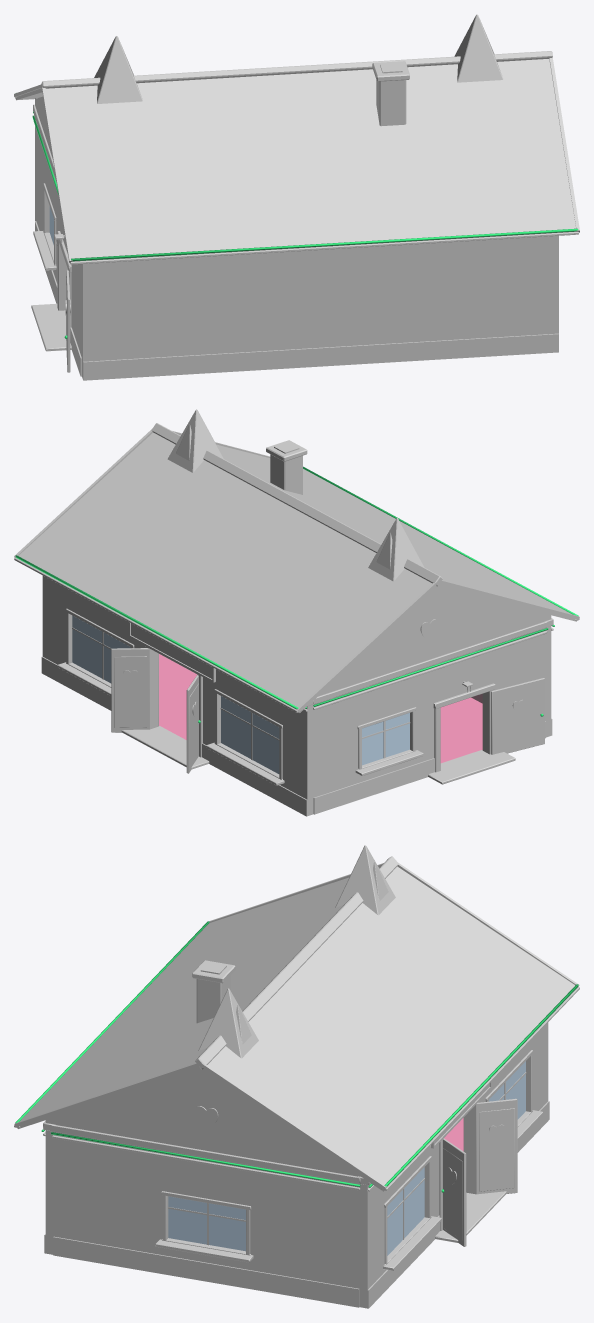
File: zon_bakery_raw.glb
The picture shows the model from 3 angles, top to bottom: view 1: azimuth 30°, elevation 25°; view 2: azimuth 150°, elevation 25°; view 3: azimuth 270°, elevation 25°; orthographic projection. The views are drawn at different scales.
Parts seen in each view (by area): view 1: SM_zon_bakery_kit_bakery_xm1_z1_raw, SM_zon_bakery_bakery_neon_xm1_z1_raw; view 2: SM_zon_bakery_kit_bakery_xm1_z1_raw, SM_zon_bakery_bakery_glass_xm1_z1_raw, SM_zon_bakery_bakery_floor_xm1_z1_raw, SM_zon_bakery_bakery_neon_xm1_z1_raw; view 3: SM_zon_bakery_kit_bakery_xm1_z1_raw, SM_zon_bakery_bakery_glass_xm1_z1_raw, SM_zon_bakery_bakery_neon_xm1_z1_raw.
Boxes of the visible parts, x1,y1,x2,y2 form: SM_zon_bakery_kit_bakery_xm1_z1_raw: (14,14,579,380); SM_zon_bakery_bakery_neon_xm1_z1_raw: (32,111,578,338); SM_zon_bakery_kit_bakery_xm1_z1_raw: (14,409,579,816); SM_zon_bakery_bakery_glass_xm1_z1_raw: (72,615,409,773); SM_zon_bakery_bakery_floor_xm1_z1_raw: (159,654,482,763); SM_zon_bakery_bakery_neon_xm1_z1_raw: (15,466,578,723); SM_zon_bakery_kit_bakery_xm1_z1_raw: (14,845,579,1308); SM_zon_bakery_bakery_glass_xm1_z1_raw: (168,1061,525,1255); SM_zon_bakery_bakery_neon_xm1_z1_raw: (15,921,578,1192).
Size of the model in its own units: 18.62 by 8.81 by 16.73.
